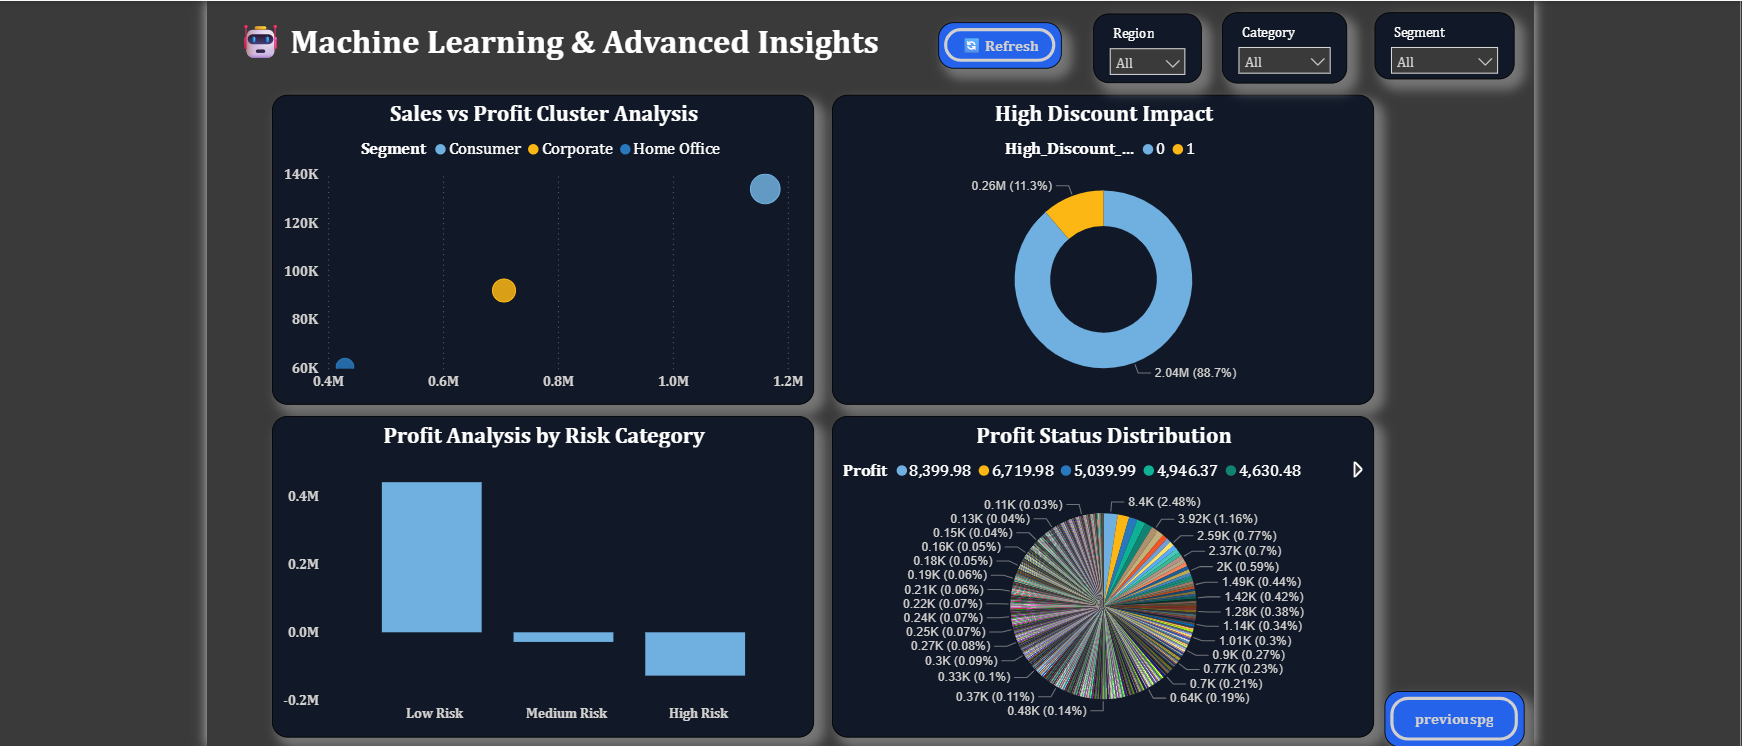

The dashboard page shown, as its layout file describes it:
{"tool":"powerbi","page":{"name":"ML Insights","canvas":[1280,720],"ordinal":2},"visuals":[{"type":"textbox","box":[9.7,10.9,658.7,54.3],"z":0},{"type":"scatterChart","title":"Sales vs Profit Cluster Analysis","fields":{"X":["Sum(business_profit_analysis superstore.Sales)"],"Y":["Sum(business_profit_analysis superstore.Profit)"],"Series":["business_profit_analysis superstore.Segment"],"Size":["Sum(business_profit_analysis superstore.Discount)"]},"box":[62.7,90.5,523.6,299.2],"z":1000},{"type":"clusteredColumnChart","title":"Profit Analysis by Risk Category","fields":{"Category":["business_profit_analysis superstore.Risk_Category"],"Y":["Sum(business_profit_analysis superstore.Profit)"]},"box":[62.7,400.5,523.6,310.1],"z":2000},{"type":"donutChart","title":"High Discount Impact","fields":{"Category":["business_profit_analysis superstore.High_Discount_Flag"],"Y":["Sum(business_profit_analysis superstore.Sales)"]},"box":[603.2,90.5,523.6,299.2],"z":3000},{"type":"pieChart","title":"Profit Status Distribution","fields":{"Category":["business_profit_analysis superstore.Profit"],"Y":["Sum(business_profit_analysis superstore.Profit)"]},"box":[603.2,400.5,523.6,310.1],"z":4000},{"type":"actionButton","box":[705.8,20.5,119.4,44.6],"z":5000},{"type":"actionButton","box":[1136.5,666,135.1,54.3],"z":6000},{"type":"slicer","fields":{"Values":["business_profit_analysis superstore.Region"]},"box":[855.4,12.1,105,67.6],"z":7000},{"type":"slicer","fields":{"Values":["business_profit_analysis superstore.Segment"]},"box":[1126.8,10.9,135.1,65.1],"z":8000},{"type":"slicer","fields":{"Values":["business_profit_analysis superstore.Category"]},"box":[979.6,10.9,120.6,68.8],"z":9000}]}

Visuals, with their boxes on the page's 1280x720 design canvas (x1, y1, x2, y2). These are canvas units, not pixel positions in the 1742x746 screenshot, which may show the page scaled, cropped or inside an application window:
textbox: <box>10,11,668,65</box>
"Sales vs Profit Cluster Analysis" scatterChart: <box>63,90,586,390</box>
"Profit Analysis by Risk Category" clusteredColumnChart: <box>63,400,586,711</box>
"High Discount Impact" donutChart: <box>603,90,1127,390</box>
"Profit Status Distribution" pieChart: <box>603,400,1127,711</box>
actionButton: <box>706,20,825,65</box>
actionButton: <box>1136,666,1272,720</box>
slicer - business_profit_analysis superstore.Region: <box>855,12,960,80</box>
slicer - business_profit_analysis superstore.Segment: <box>1127,11,1262,76</box>
slicer - business_profit_analysis superstore.Category: <box>980,11,1100,80</box>
